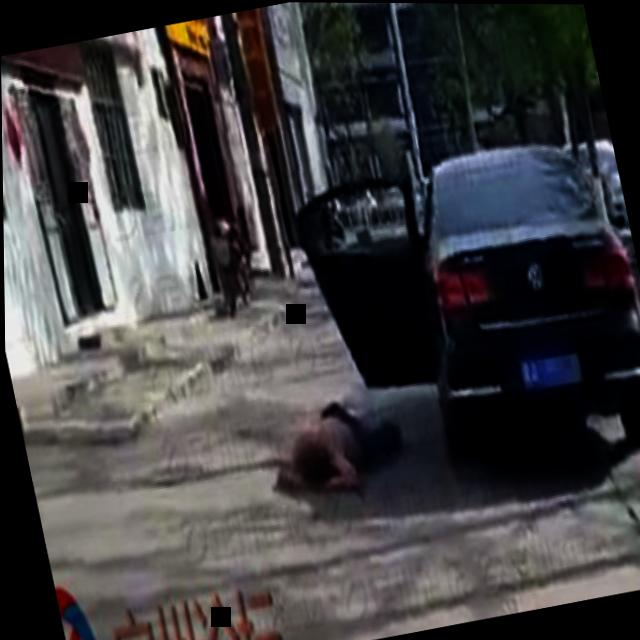Fall-Detected: (253, 361, 420, 511)
